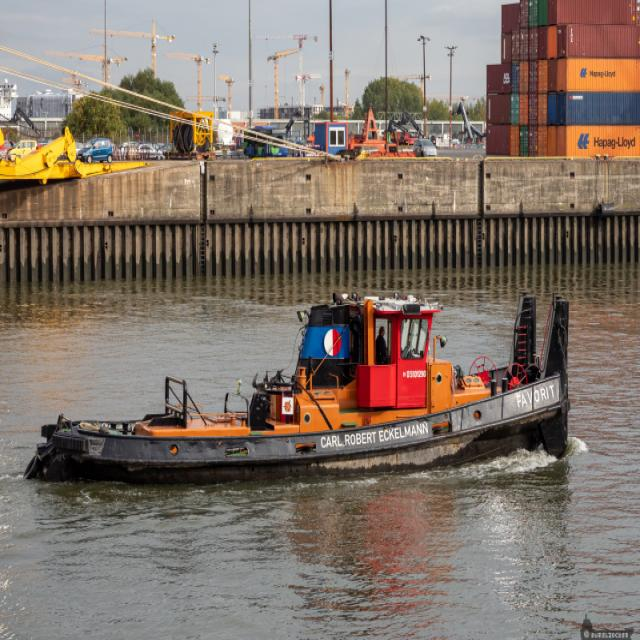tugboat: (24, 280, 579, 499)
